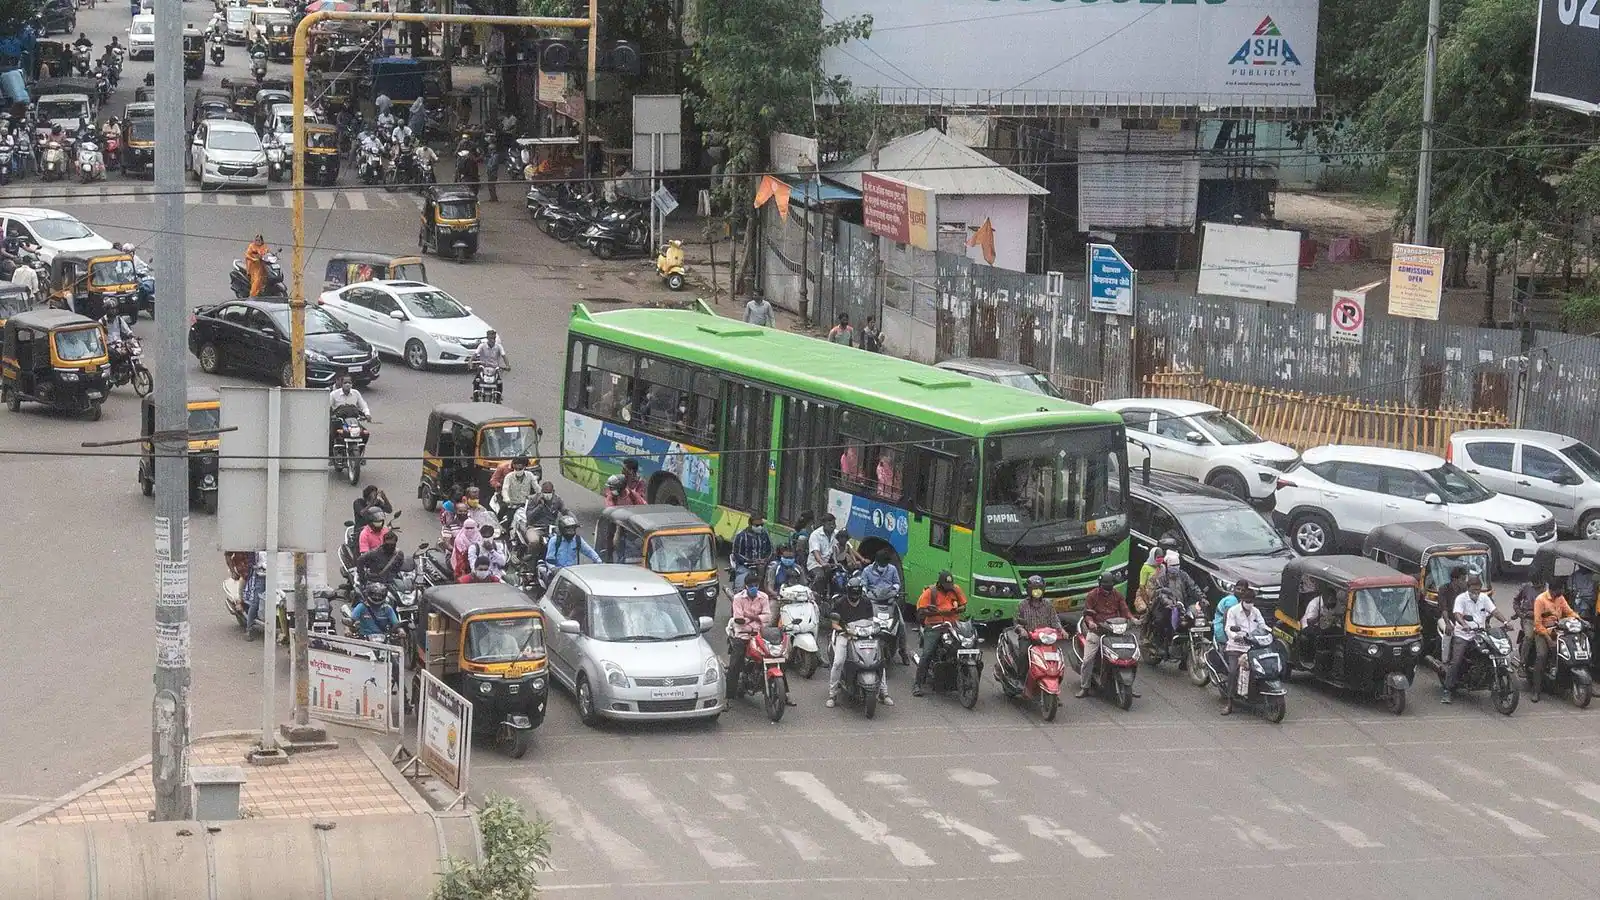bike: (914, 578, 985, 722), (731, 582, 792, 719), (1438, 615, 1519, 716), (766, 549, 829, 671), (1208, 627, 1288, 716), (997, 619, 1065, 719), (836, 577, 885, 715), (1079, 612, 1148, 708), (1520, 608, 1589, 702), (1144, 591, 1213, 679), (96, 296, 155, 395), (322, 377, 371, 485), (359, 582, 401, 675), (870, 552, 904, 648), (468, 329, 516, 395), (223, 247, 288, 289), (595, 216, 660, 257), (654, 237, 688, 291), (40, 127, 73, 182), (384, 141, 415, 195), (451, 129, 484, 180), (358, 129, 388, 185), (75, 129, 104, 184), (244, 38, 275, 84), (412, 140, 440, 187), (262, 126, 287, 176), (100, 113, 122, 165), (18, 120, 38, 171), (90, 62, 116, 96), (207, 24, 227, 63), (74, 32, 93, 70), (1, 127, 13, 180), (105, 38, 124, 64)
bus: (554, 290, 1135, 562)
car: (545, 553, 733, 730), (1279, 438, 1544, 541), (1149, 456, 1298, 603), (1114, 392, 1288, 487), (1434, 416, 1600, 501), (209, 287, 360, 373), (334, 273, 496, 353), (192, 112, 284, 198), (4, 196, 84, 251)
rickshaw: (408, 580, 558, 754), (1277, 552, 1419, 705), (8, 303, 112, 429), (599, 492, 727, 591), (127, 381, 237, 495), (426, 395, 544, 500), (1380, 505, 1481, 595), (51, 238, 146, 320), (414, 174, 484, 258), (116, 103, 167, 175), (299, 120, 341, 185)
